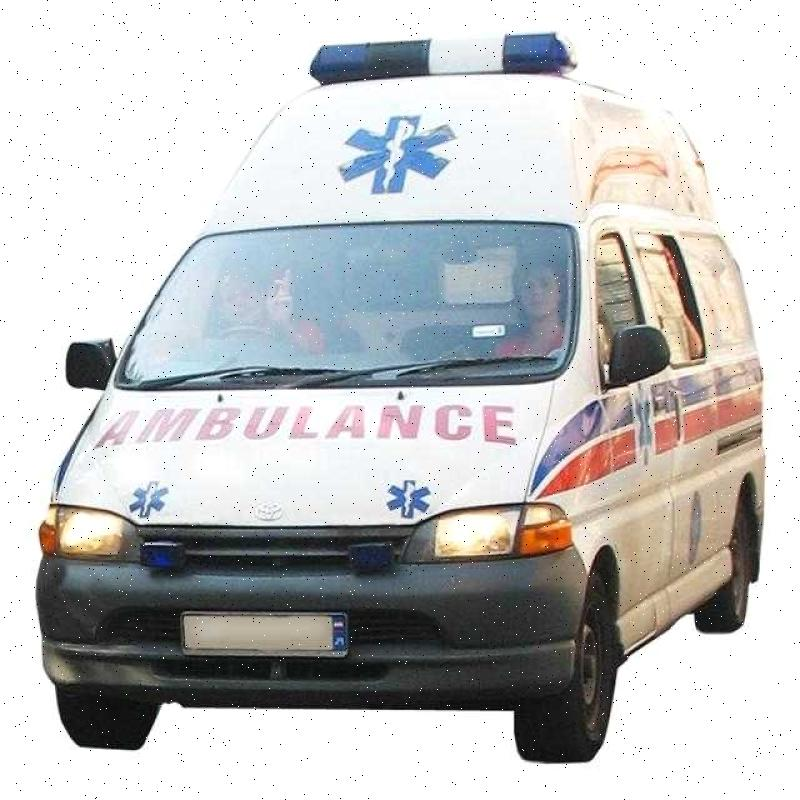AmbulanceSiren: (287, 17, 583, 100)
ambulance: (0, 17, 779, 800)
